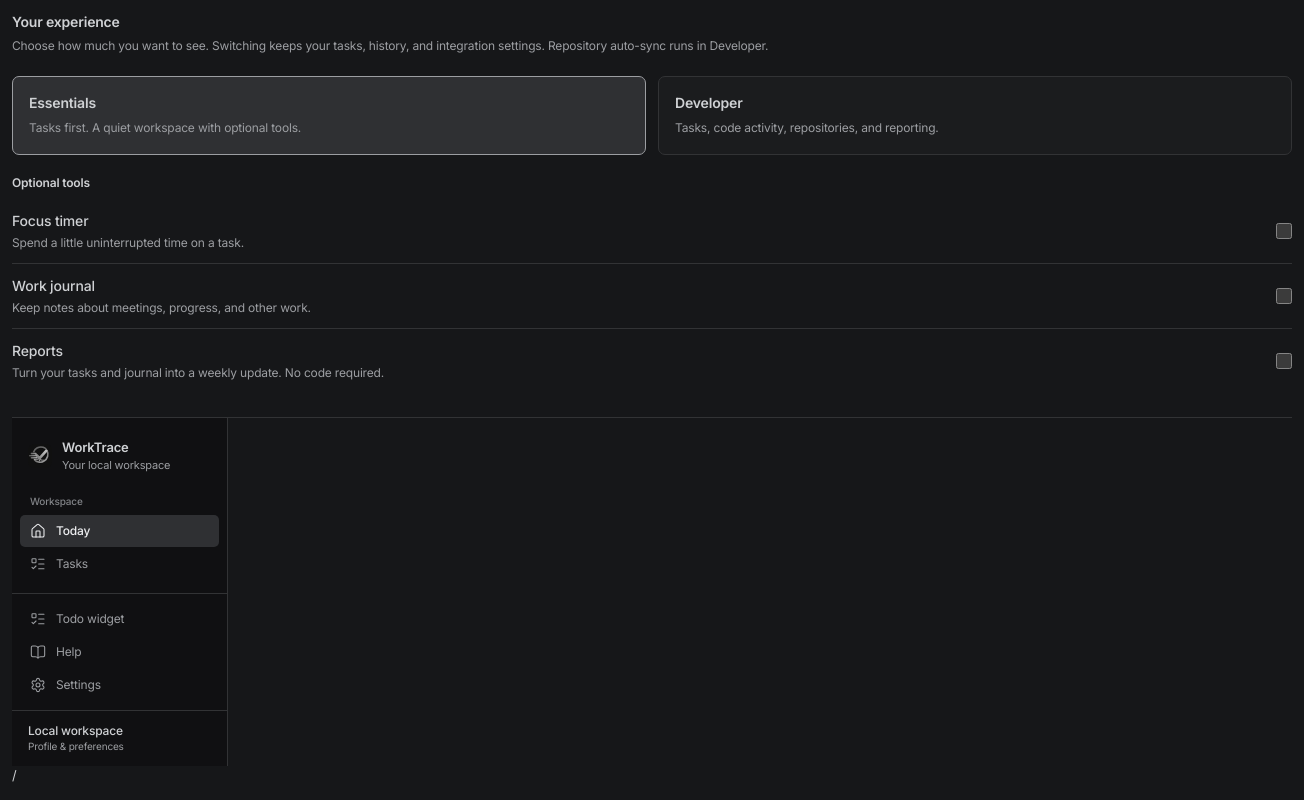
Scenario: experience selection and disclosure › updates navigation when tools and Developer mode are enabled
Expected: the links read "Today", "Tasks", in this order, [20, 514, 219, 546]; [30, 556, 88, 572]
Click the checkbox labelled "Reports" at (1284,360), box [1276, 352, 1292, 368]
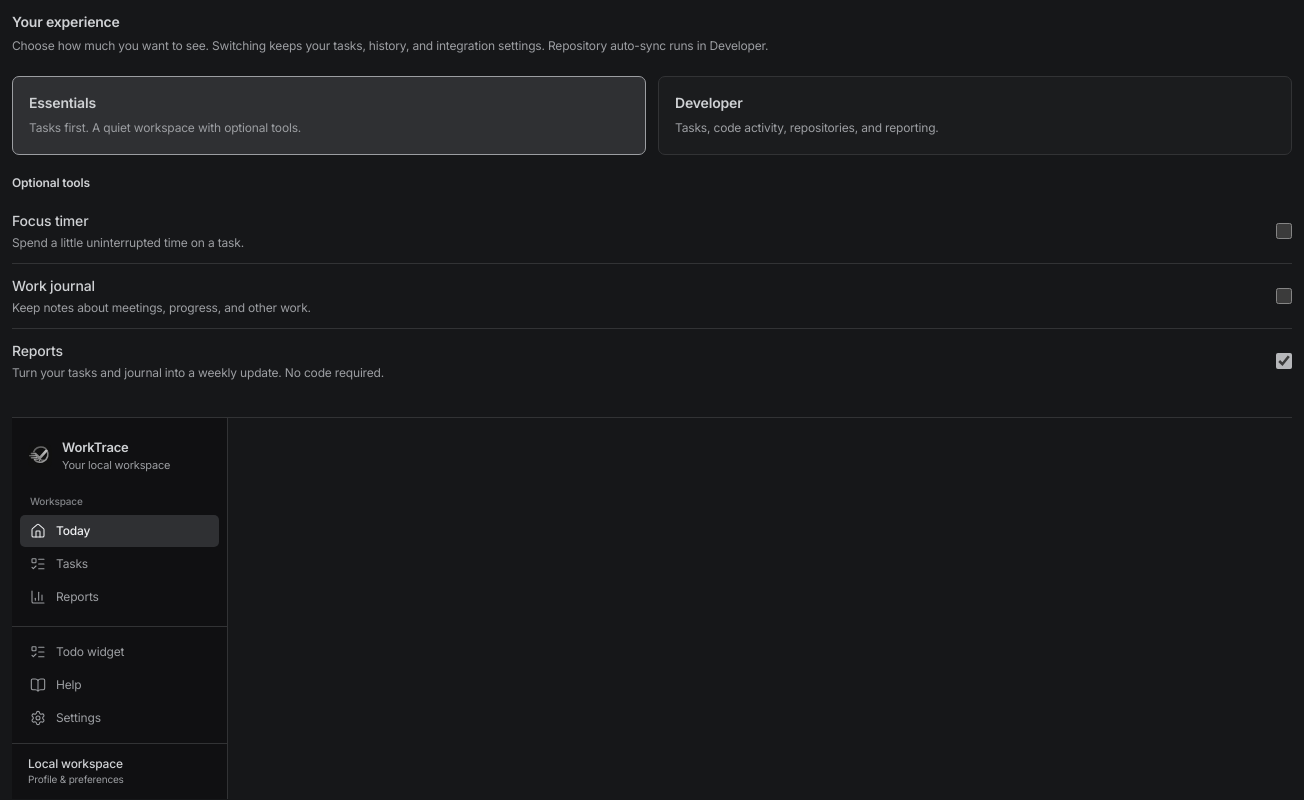
Expected: the link "Reports" is shown, [30, 588, 99, 604]
Click the button "Developer Tasks, code activity, repositories, and reporting." at (709,102), box [658, 76, 1292, 154]
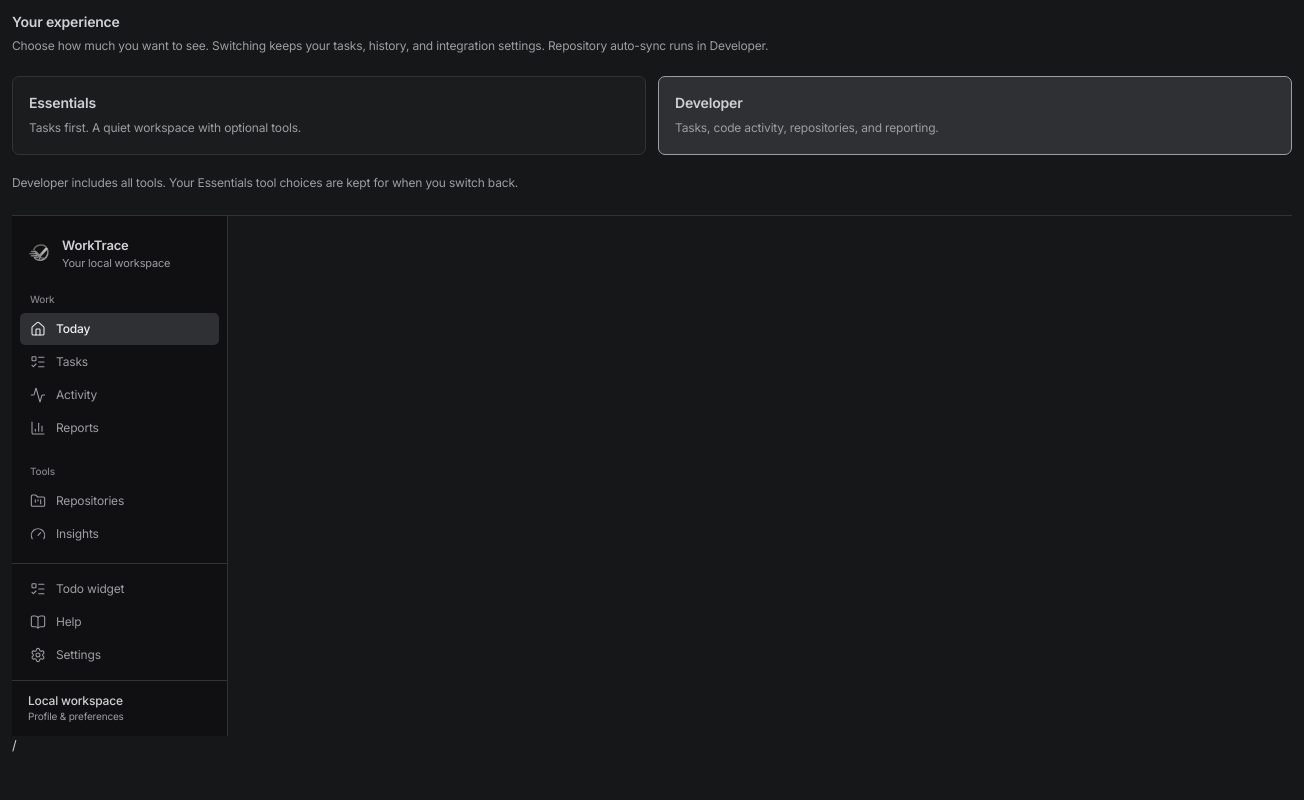
Expected: the link "Repositories" is shown, [30, 492, 124, 508]
